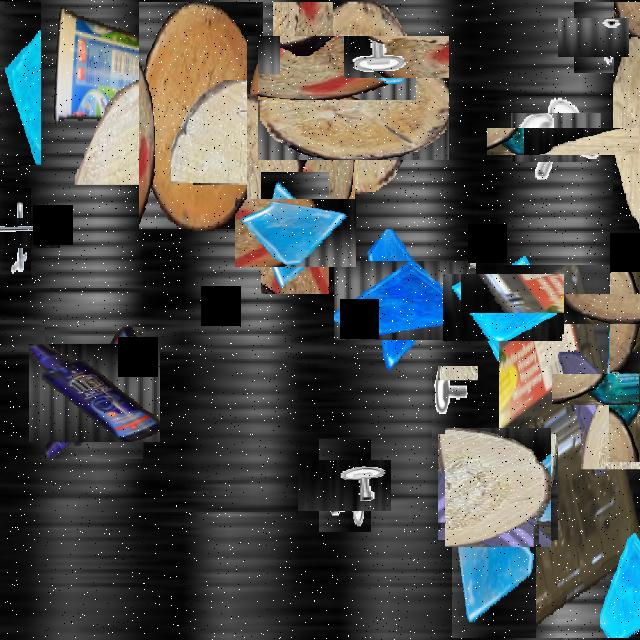glass: (452, 489, 536, 638), (350, 245, 460, 356), (506, 416, 586, 558), (457, 260, 551, 355), (248, 186, 342, 280), (0, 2, 41, 165)
metal: (273, 2, 333, 108), (309, 449, 381, 522), (521, 102, 591, 172), (432, 366, 478, 448), (566, 10, 622, 65), (0, 202, 45, 263)
plastic: (499, 265, 640, 638), (36, 336, 152, 450), (52, 2, 148, 126), (580, 345, 640, 433)
wood: (139, 2, 263, 229), (274, 19, 432, 177), (247, 36, 355, 252), (74, 80, 230, 183), (549, 65, 640, 218), (442, 430, 554, 544), (585, 270, 640, 349)
